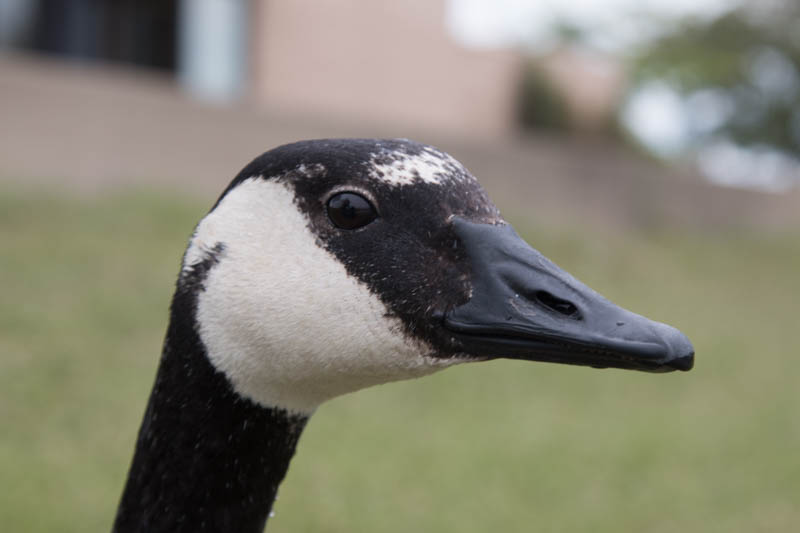goose-head: (161, 138, 697, 413)
